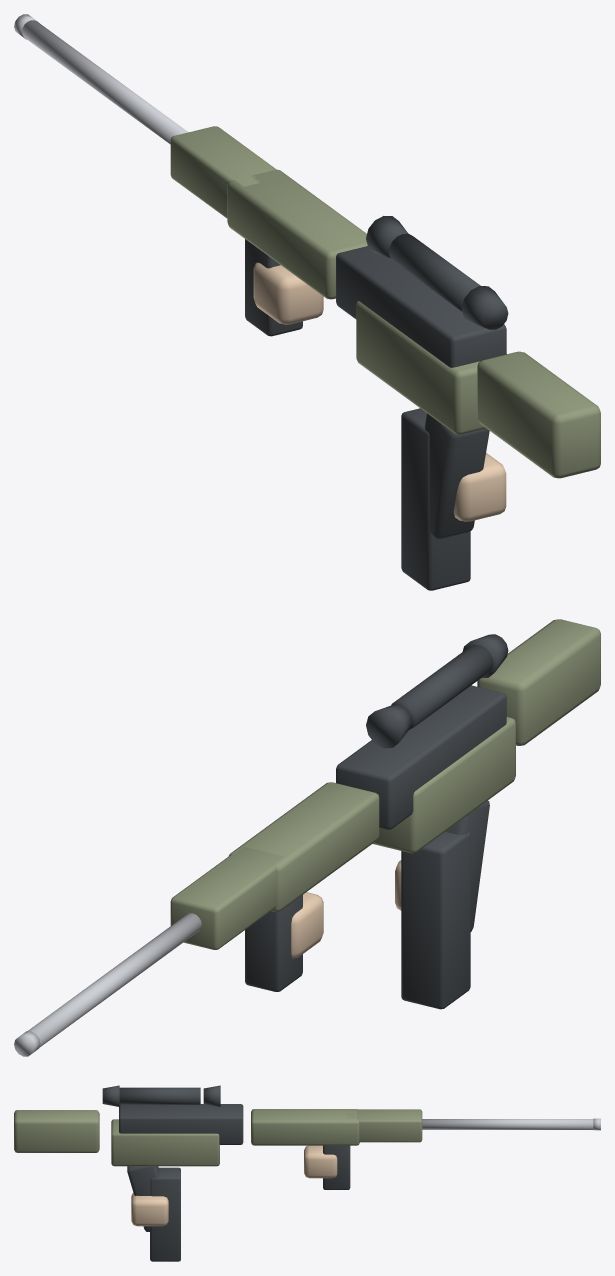
File: dmr.glb
3 views of the same model, one above another, from view 1: azimuth 30°, elevation 25°; view 2: azimuth 150°, elevation 25°; view 3: azimuth 270°, elevation 25° (orthographic). The views are drawn at different scales.
Parts seen in each view (by area): view 1: WeaponMesh, Mag; view 2: WeaponMesh, Mag; view 3: WeaponMesh, Mag.
Part boxes in pixels (x1=…): WeaponMesh: x1=14, y1=14, x2=600, y2=539; Mag: x1=401, y1=408, x2=470, y2=590; WeaponMesh: x1=14, y1=619, x2=600, y2=1056; Mag: x1=401, y1=832, x2=470, y2=1009; WeaponMesh: x1=14, y1=1085, x2=600, y2=1231; Mag: x1=150, y1=1167, x2=180, y2=1261.
Size of the model in its own units: 0.057 by 0.242 by 0.755.
